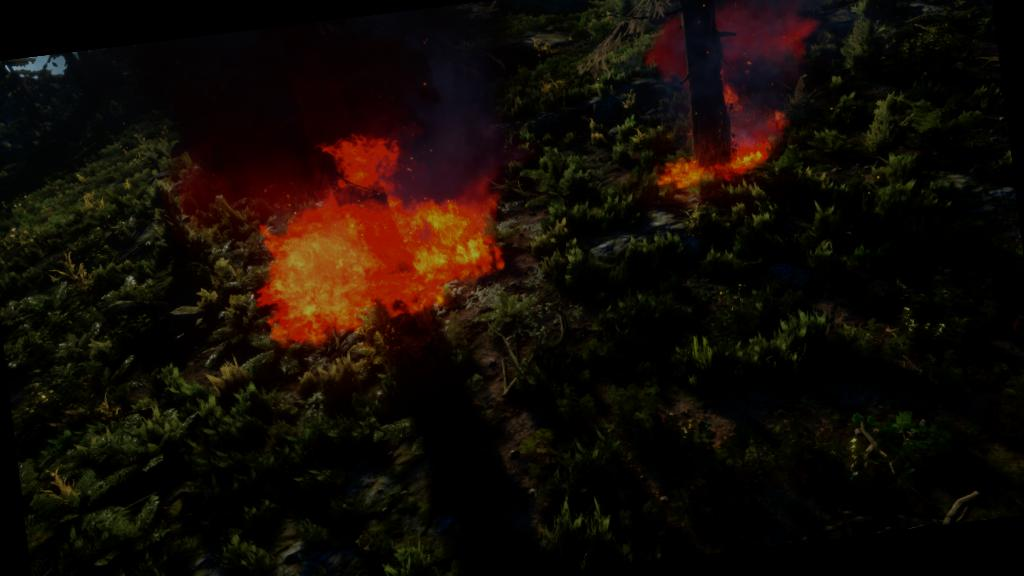Fire: (220, 120, 540, 358), (634, 0, 847, 205)
smoke: (135, 0, 541, 242)
